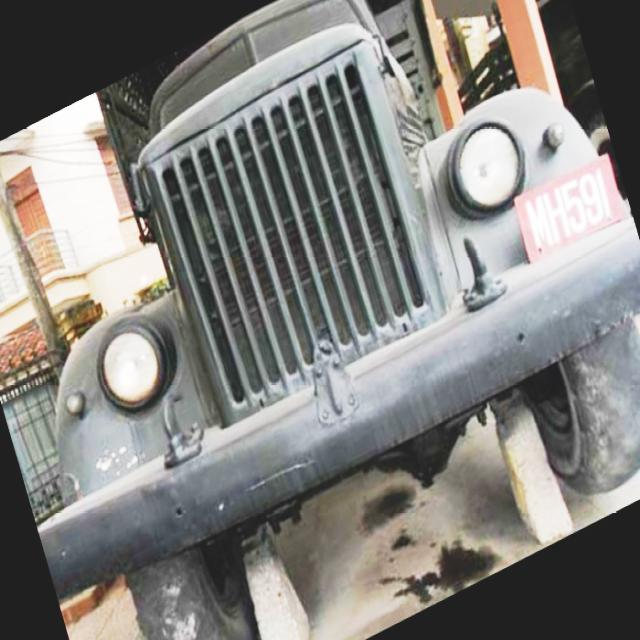license_plate: (514, 153, 628, 262)
